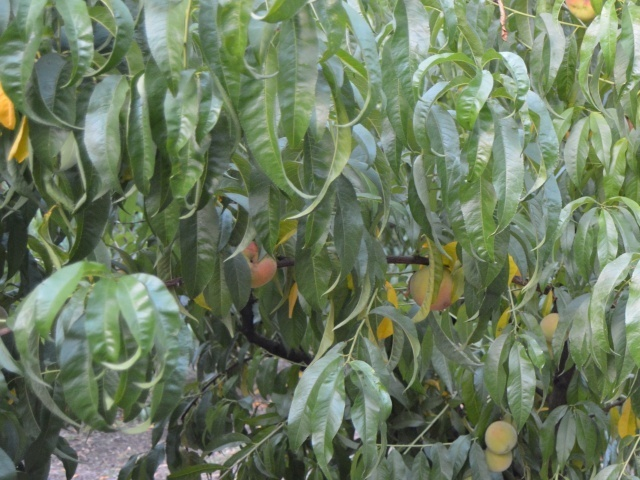peach: (407, 260, 461, 316), (237, 237, 281, 291), (483, 417, 521, 454), (477, 443, 515, 476), (534, 307, 564, 343)
